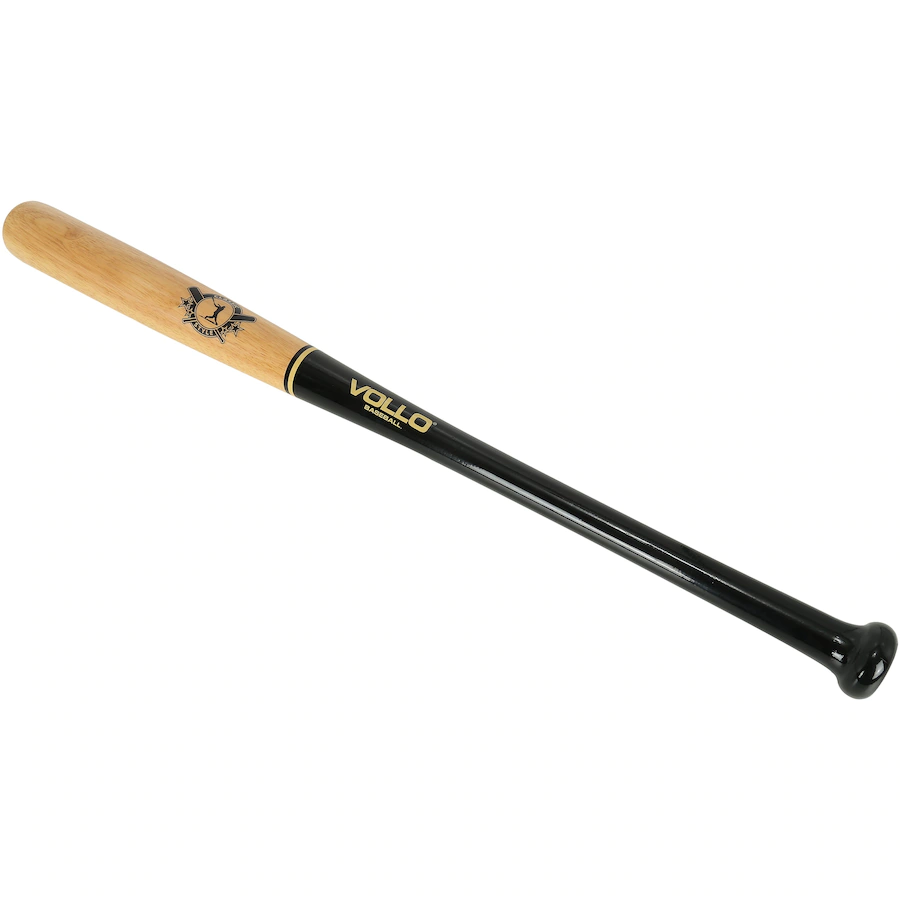bat: (1, 191, 896, 699)
